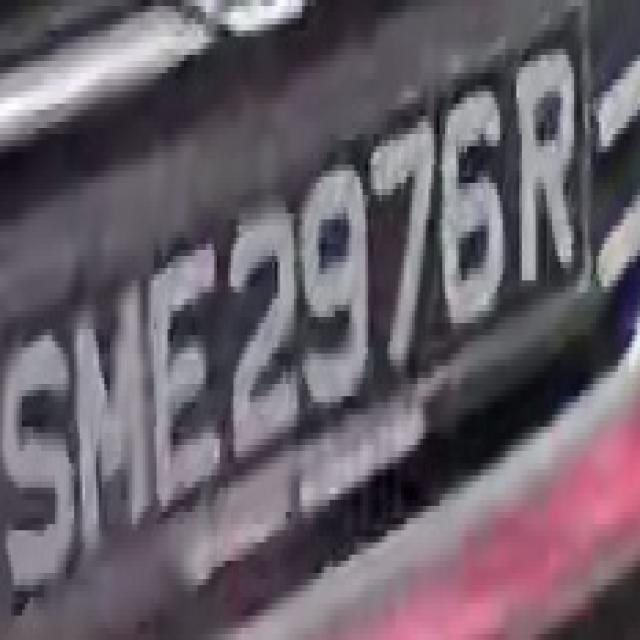2: (223, 195, 302, 463)
6: (434, 80, 511, 342)
7: (357, 104, 434, 390)
9: (294, 153, 373, 414)
E: (143, 232, 228, 506)
M: (74, 268, 154, 555)
R: (508, 30, 577, 305)
S: (8, 317, 80, 628)
